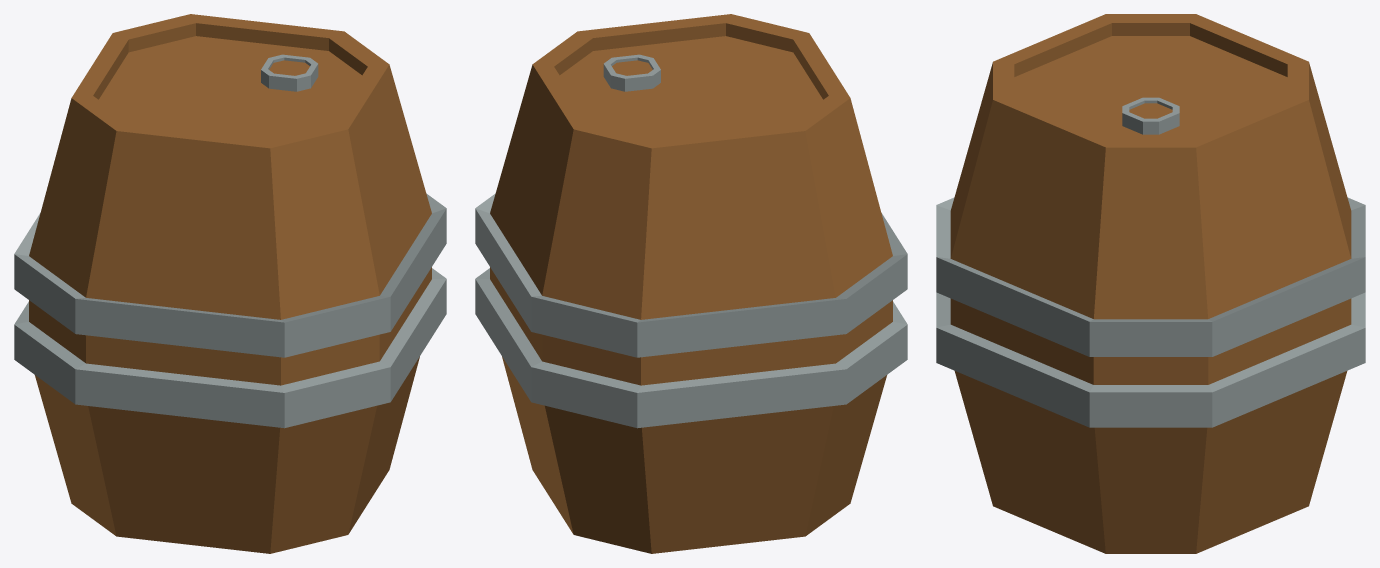
The model's file is Barrel.fbx.
3 renders of one model, left to right at view 1: azimuth 30°, elevation 25°; view 2: azimuth 150°, elevation 25°; view 3: azimuth 270°, elevation 25°, orthographic.
Parts seen in each view (by area): view 1: Cube; view 2: Cube; view 3: Cube.
Boxes of the visible parts, x1=… form: Cube: x1=14, y1=14, x2=446, y2=553; Cube: x1=475, y1=14, x2=907, y2=553; Cube: x1=936, y1=14, x2=1365, y2=553.
Bounding box in the file's own units: 239 × 250 × 239.
